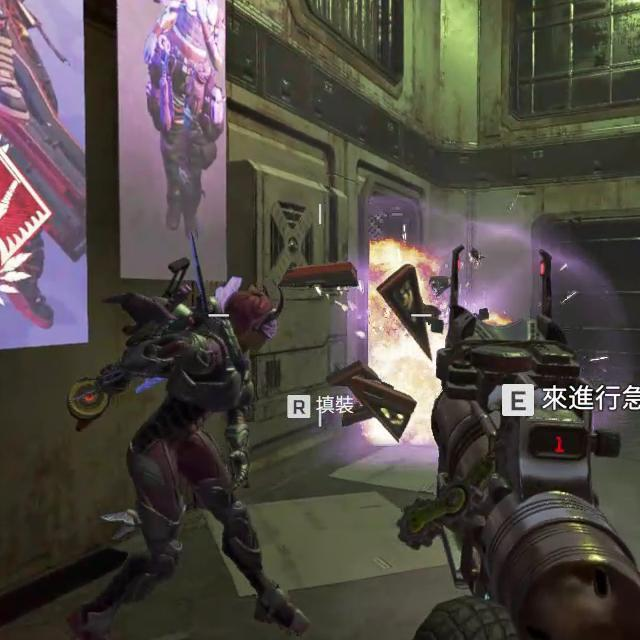avatar: (65, 253, 310, 638)
